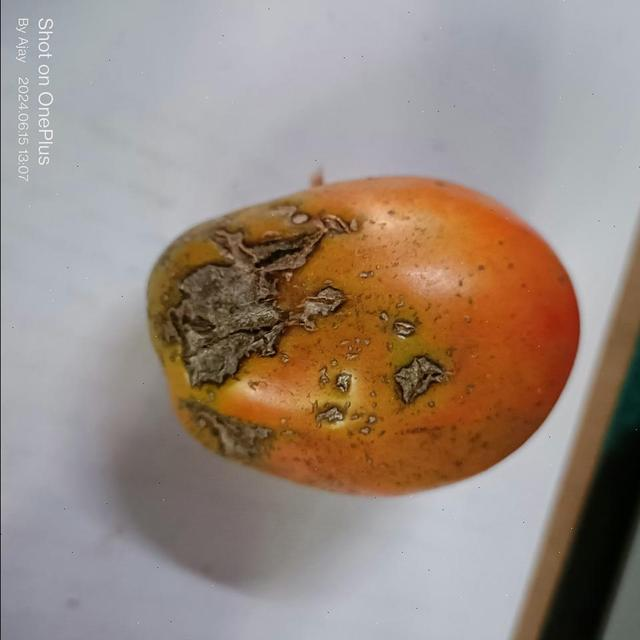Bacterial Spot Fruit: (21, 12, 279, 291)
